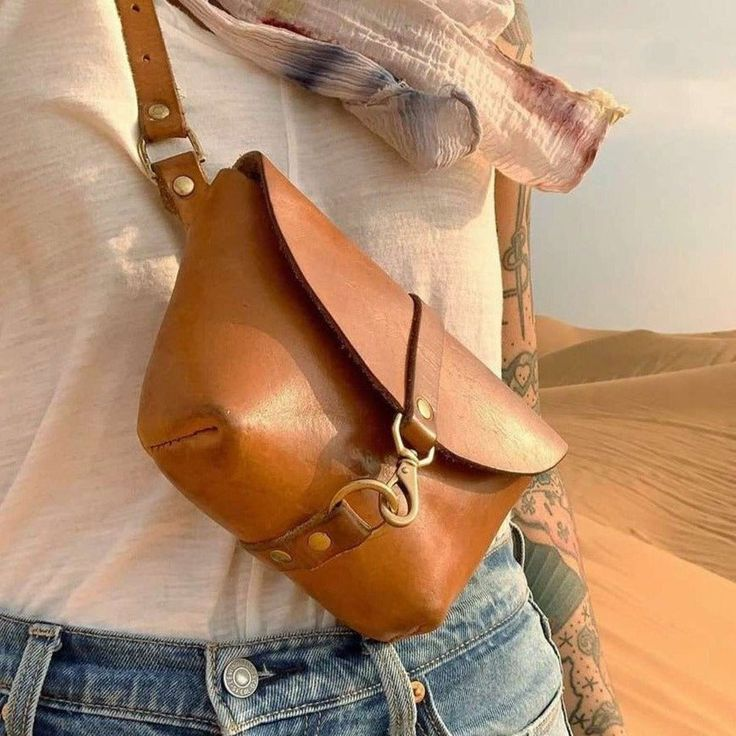cuero: (113, 1, 569, 642)
